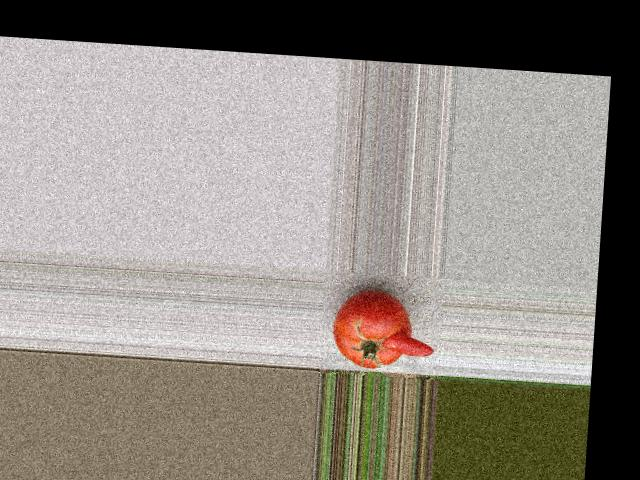tomato: (329, 289, 414, 370)
